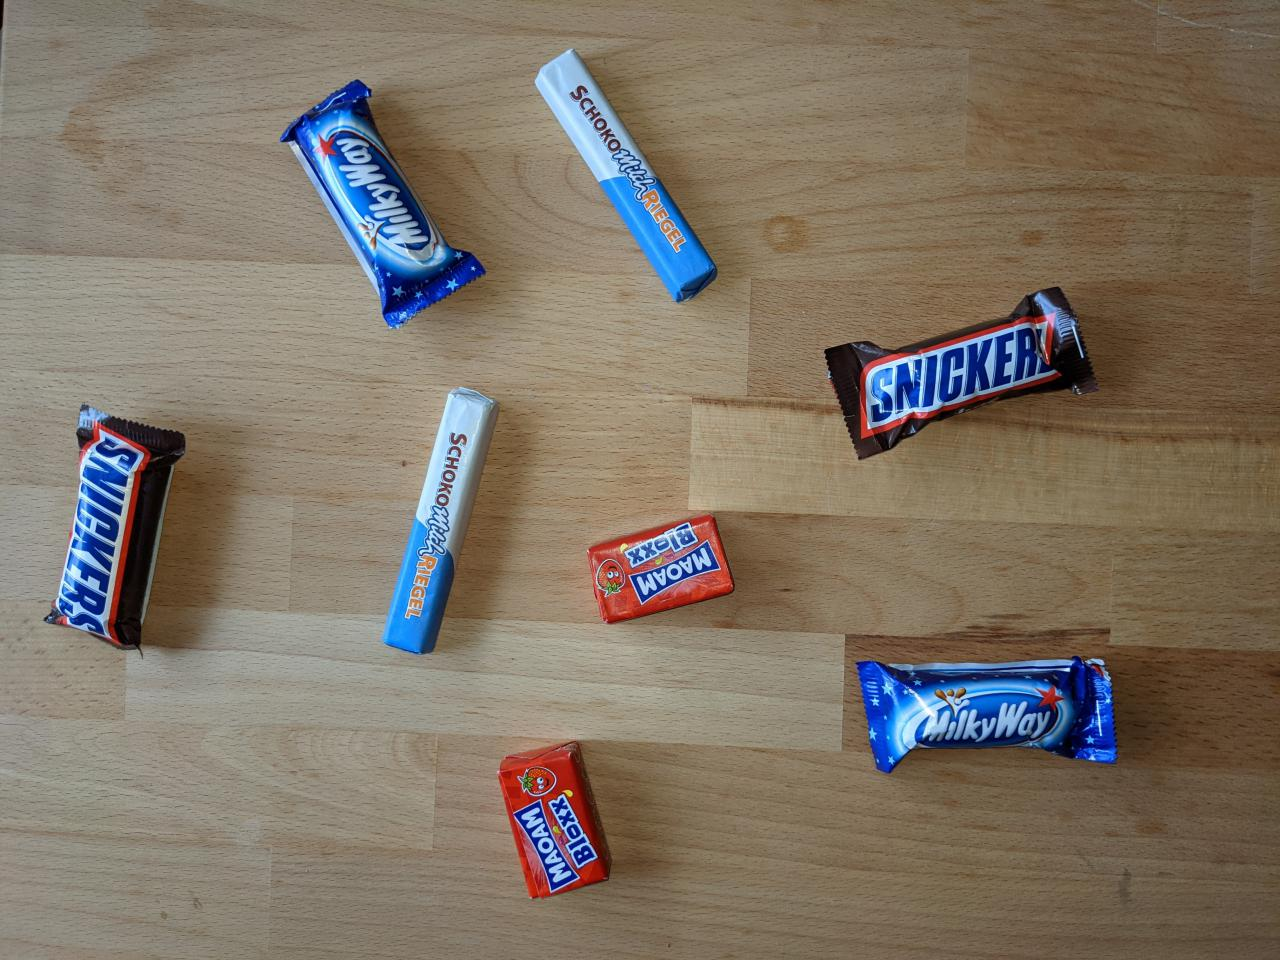MAOAM: (493, 734, 617, 905), (582, 509, 740, 631)
MilkyWay: (277, 74, 493, 336), (851, 650, 1122, 781)
Schokoriegel: (530, 45, 721, 306), (377, 381, 505, 661)
Snickers: (814, 279, 1103, 467), (40, 397, 191, 664)
